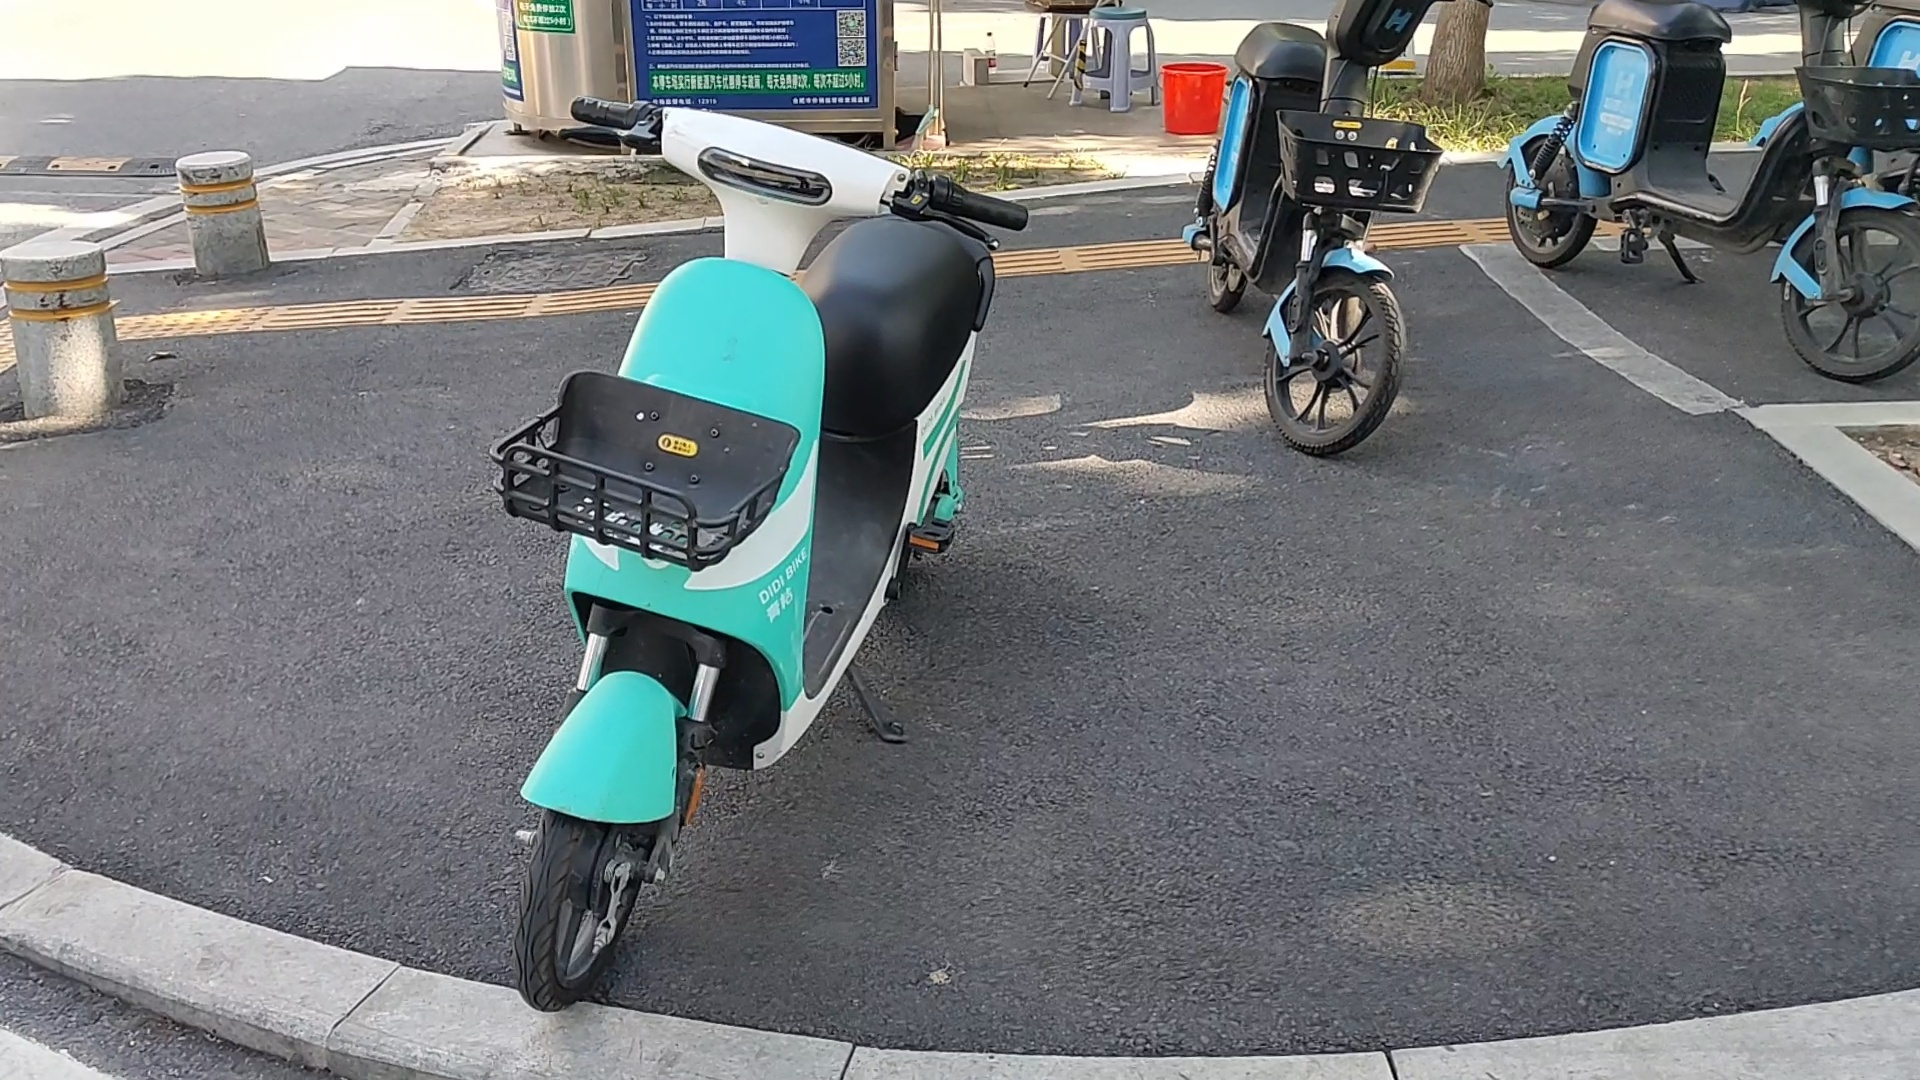non-vehicle: (487, 44, 1030, 1038), (1506, 0, 1917, 390), (1184, 7, 1474, 455)
